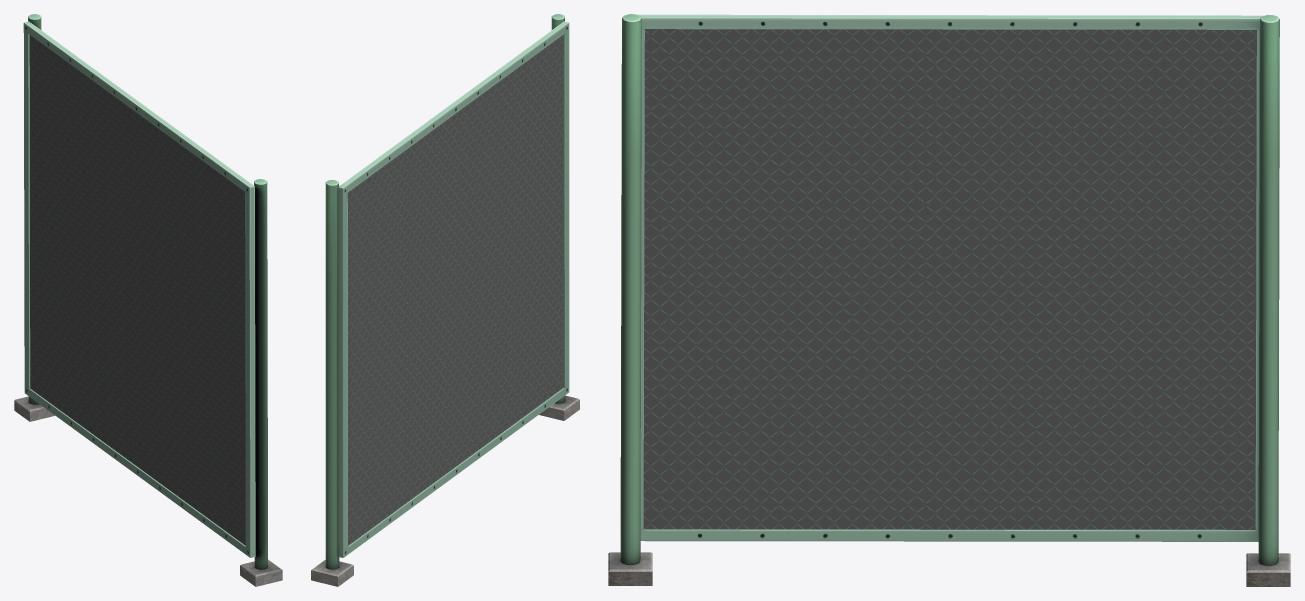
Rendered from Preset_FenceA.fbx.
3 views of the same model, side by side, from view 1: azimuth 30°, elevation 25°; view 2: azimuth 150°, elevation 25°; view 3: azimuth 270°, elevation 25° (orthographic). The views are drawn at different scales.
Visible parts, largest first — view 1: WireA1, Frame, PoleA, PoleB; view 2: WireA1, Frame, PoleB, PoleA; view 3: WireA, Frame, PoleA, PoleB.
Boxes of the visible parts, x1,y1,x2,y2 form: WireA1: [29, 35, 245, 545]; Frame: [23, 21, 255, 557]; PoleA: [240, 179, 282, 586]; PoleB: [14, 14, 54, 421]; WireA1: [347, 35, 563, 545]; Frame: [338, 21, 569, 557]; PoleB: [311, 180, 353, 586]; PoleA: [539, 14, 579, 420]; WireA: [643, 29, 1256, 529]; Frame: [637, 14, 1263, 541]; PoleA: [608, 14, 652, 585]; PoleB: [1246, 15, 1290, 586].
Bounding box in the file's own units: 13.91 × 214 × 194.
3 materials, 3 textured.
